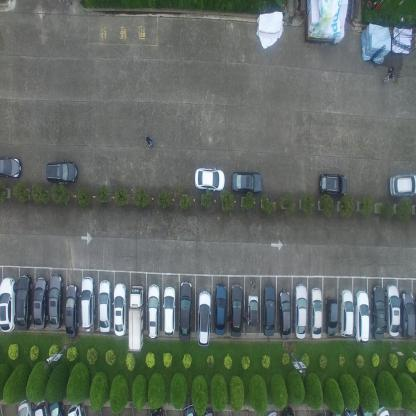car: (128, 285, 144, 353), (0, 275, 17, 334), (196, 288, 212, 348), (178, 278, 193, 342), (16, 272, 32, 331), (398, 289, 416, 341), (48, 272, 64, 330), (80, 275, 96, 332), (64, 284, 80, 340), (293, 282, 308, 340), (146, 282, 161, 340), (45, 158, 78, 184), (354, 290, 370, 343), (112, 281, 127, 337), (230, 282, 244, 340), (318, 171, 347, 199), (232, 169, 262, 196), (33, 276, 48, 330), (263, 282, 277, 338), (371, 284, 385, 340), (386, 283, 400, 339), (194, 167, 225, 192), (309, 286, 323, 340), (339, 288, 354, 338), (213, 282, 227, 335), (389, 171, 416, 198), (162, 285, 176, 337), (98, 278, 111, 334), (278, 287, 290, 339), (324, 294, 338, 338), (0, 154, 22, 180), (247, 294, 259, 328), (17, 396, 34, 415), (66, 400, 84, 416), (35, 397, 50, 415), (50, 398, 64, 416), (180, 402, 196, 415), (360, 402, 374, 416), (280, 403, 296, 415), (149, 404, 165, 415), (376, 403, 390, 415), (344, 403, 357, 415), (202, 408, 214, 416)
